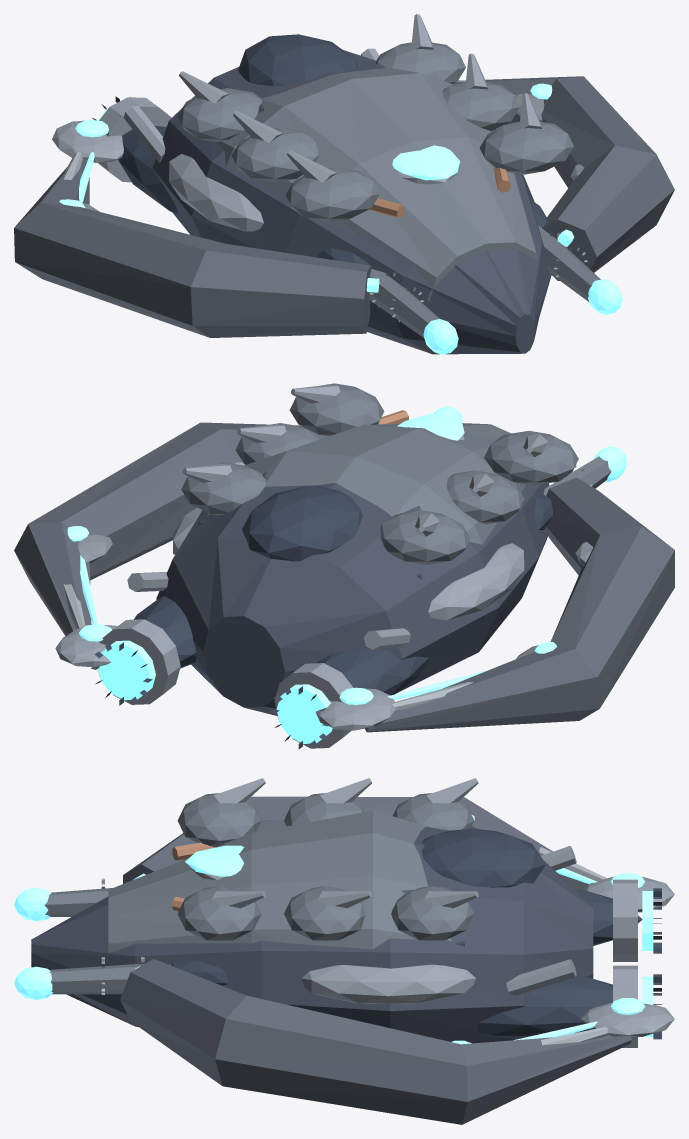
Rendered from npc_devolarium.glb.
3 views of the same model, one above another, from view 1: azimuth 30°, elevation 25°; view 2: azimuth 150°, elevation 25°; view 3: azimuth 270°, elevation 25° (orthographic).
Parts seen in each view (by area): view 1: armored_scythe_-1, upper_armor_scar, keel_pressure_hull, armored_scythe_1, destroyer_turret, dreadnox_dorsal_plating_1_0, dreadnox_dorsal_plating_-1_0, heavy_shield_pad_-1, dreadnox_dorsal_plating_-1_1, dreadnox_dorsal_plating_-1_2, dreadnox_dorsal_plating_1_1, dreadnox_dorsal_plating_1_2 (+16 smaller); view 2: keel_pressure_hull, armored_scythe_-1, armored_scythe_1, upper_armor_scar, destroyer_turret, heavy_shield_pad_-1, dreadnox_dorsal_plating_-1_0, dreadnox_dorsal_plating_-1_2, engine_armor_-1, dreadnox_dorsal_plating_1_0, exhaust_coil_1, dreadnox_dorsal_plating_-1_1 (+20 smaller); view 3: armored_scythe_1, keel_pressure_hull, upper_armor_scar, destroyer_turret, heavy_shield_pad_1, engine_armor_1, armored_scythe_-1, dreadnox_dorsal_plating_-1_0, dreadnox_dorsal_plating_1_0, dreadnox_dorsal_plating_1_2, dreadnox_dorsal_plating_1_1, long_plasma_cannon_1 (+22 smaller).
Boxes of the visible parts, left/top/right/bottom form: armored_scythe_-1: left=14, top=160, right=370, bottom=337; upper_armor_scar: left=216, top=67, right=539, bottom=301; keel_pressure_hull: left=152, top=50, right=551, bottom=354; armored_scythe_1: left=453, top=76, right=674, bottom=280; destroyer_turret: left=238, top=34, right=358, bottom=86; dreadnox_dorsal_plating_1_0: left=479, top=121, right=573, bottom=174; dreadnox_dorsal_plating_-1_0: left=285, top=167, right=379, bottom=221; heavy_shield_pad_-1: left=169, top=154, right=263, bottom=231; dreadnox_dorsal_plating_-1_1: left=231, top=127, right=318, bottom=182; dreadnox_dorsal_plating_-1_2: left=177, top=88, right=261, bottom=141; dreadnox_dorsal_plating_1_1: left=442, top=82, right=519, bottom=131; dreadnox_dorsal_plating_1_2: left=376, top=42, right=465, bottom=83; keel_pressure_hull: left=156, top=471, right=549, bottom=715; armored_scythe_-1: left=365, top=477, right=674, bottom=732; armored_scythe_1: left=14, top=422, right=328, bottom=635; upper_armor_scar: left=207, top=423, right=525, bottom=544; destroyer_turret: left=242, top=485, right=362, bottom=561; heavy_shield_pad_-1: left=428, top=543, right=524, bottom=620; dreadnox_dorsal_plating_-1_0: left=484, top=431, right=578, bottom=485; dreadnox_dorsal_plating_-1_2: left=380, top=510, right=470, bottom=564; engine_armor_-1: left=316, top=648, right=428, bottom=695; dreadnox_dorsal_plating_1_0: left=289, top=383, right=384, bottom=436; exhaust_coil_1: left=98, top=619, right=180, bottom=704; dreadnox_dorsal_plating_-1_1: left=446, top=470, right=524, bottom=524; armored_scythe_1: left=120, top=959, right=631, bottom=1124; keel_pressure_hull: left=31, top=820, right=593, bottom=1043; upper_armor_scar: left=108, top=810, right=451, bottom=954; destroyer_turret: left=421, top=828, right=545, bottom=887; heavy_shield_pad_1: left=301, top=964, right=475, bottom=1003; engine_armor_1: left=476, top=975, right=612, bottom=1038; armored_scythe_-1: left=123, top=796, right=588, bottom=890; dreadnox_dorsal_plating_-1_0: left=177, top=793, right=261, bottom=846; dreadnox_dorsal_plating_1_0: left=177, top=886, right=261, bottom=941; dreadnox_dorsal_plating_1_2: left=391, top=886, right=474, bottom=941; dreadnox_dorsal_plating_1_1: left=284, top=886, right=365, bottom=941; long_plasma_cannon_1: left=49, top=964, right=171, bottom=994.
Bounding box in the file's own units: 4.23 × 1.43 × 4.22.
